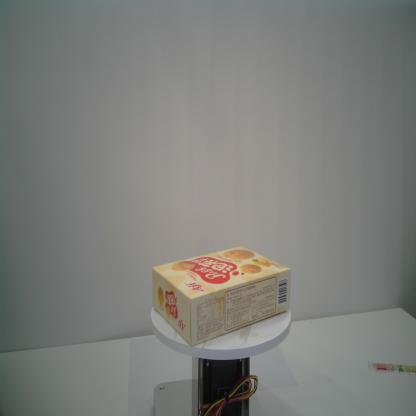Dessert: (152, 245, 291, 347)
